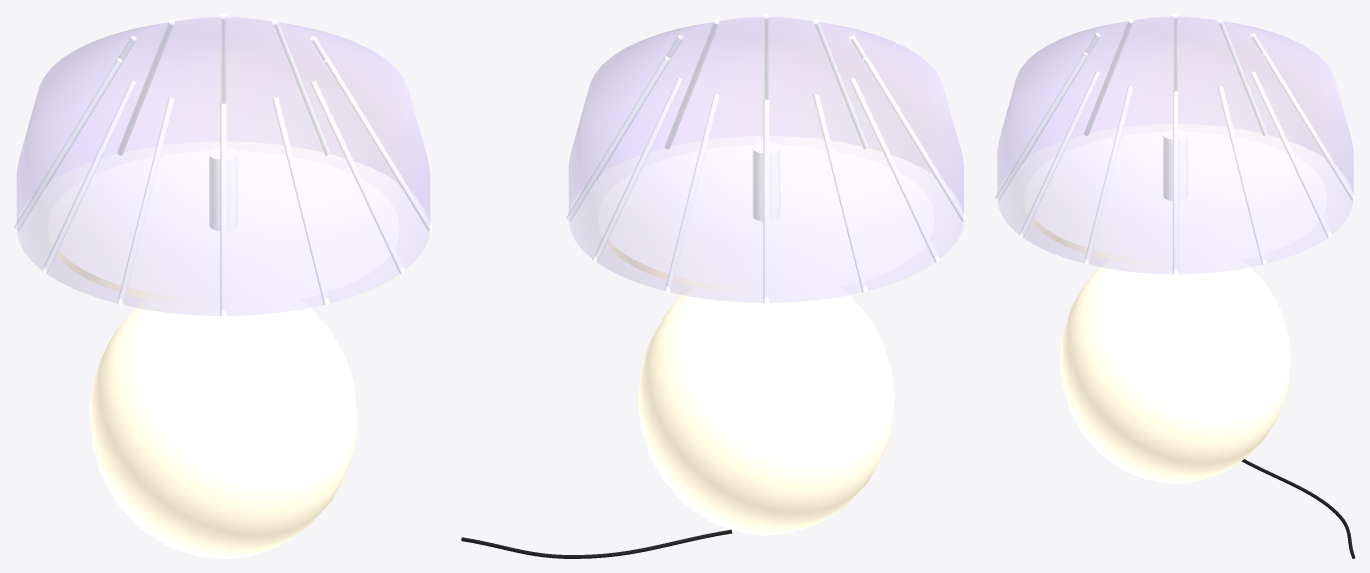
The model's file is ref08_08.glb.
3 renders of one model, left to right at view 1: azimuth 30°, elevation 25°; view 2: azimuth 150°, elevation 25°; view 3: azimuth 270°, elevation 25°, orthographic. The views are drawn at different scales.
Parts seen in each view (by area): view 1: ref08_08; view 2: ref08_08; view 3: ref08_08.
Boxes of the visible parts, x1,y1,x2,y2 form: ref08_08: [14, 14, 432, 558]; ref08_08: [461, 14, 966, 558]; ref08_08: [995, 14, 1355, 558].
Bounding box in the file's own units: 0.443 × 0.53 × 0.4052.
